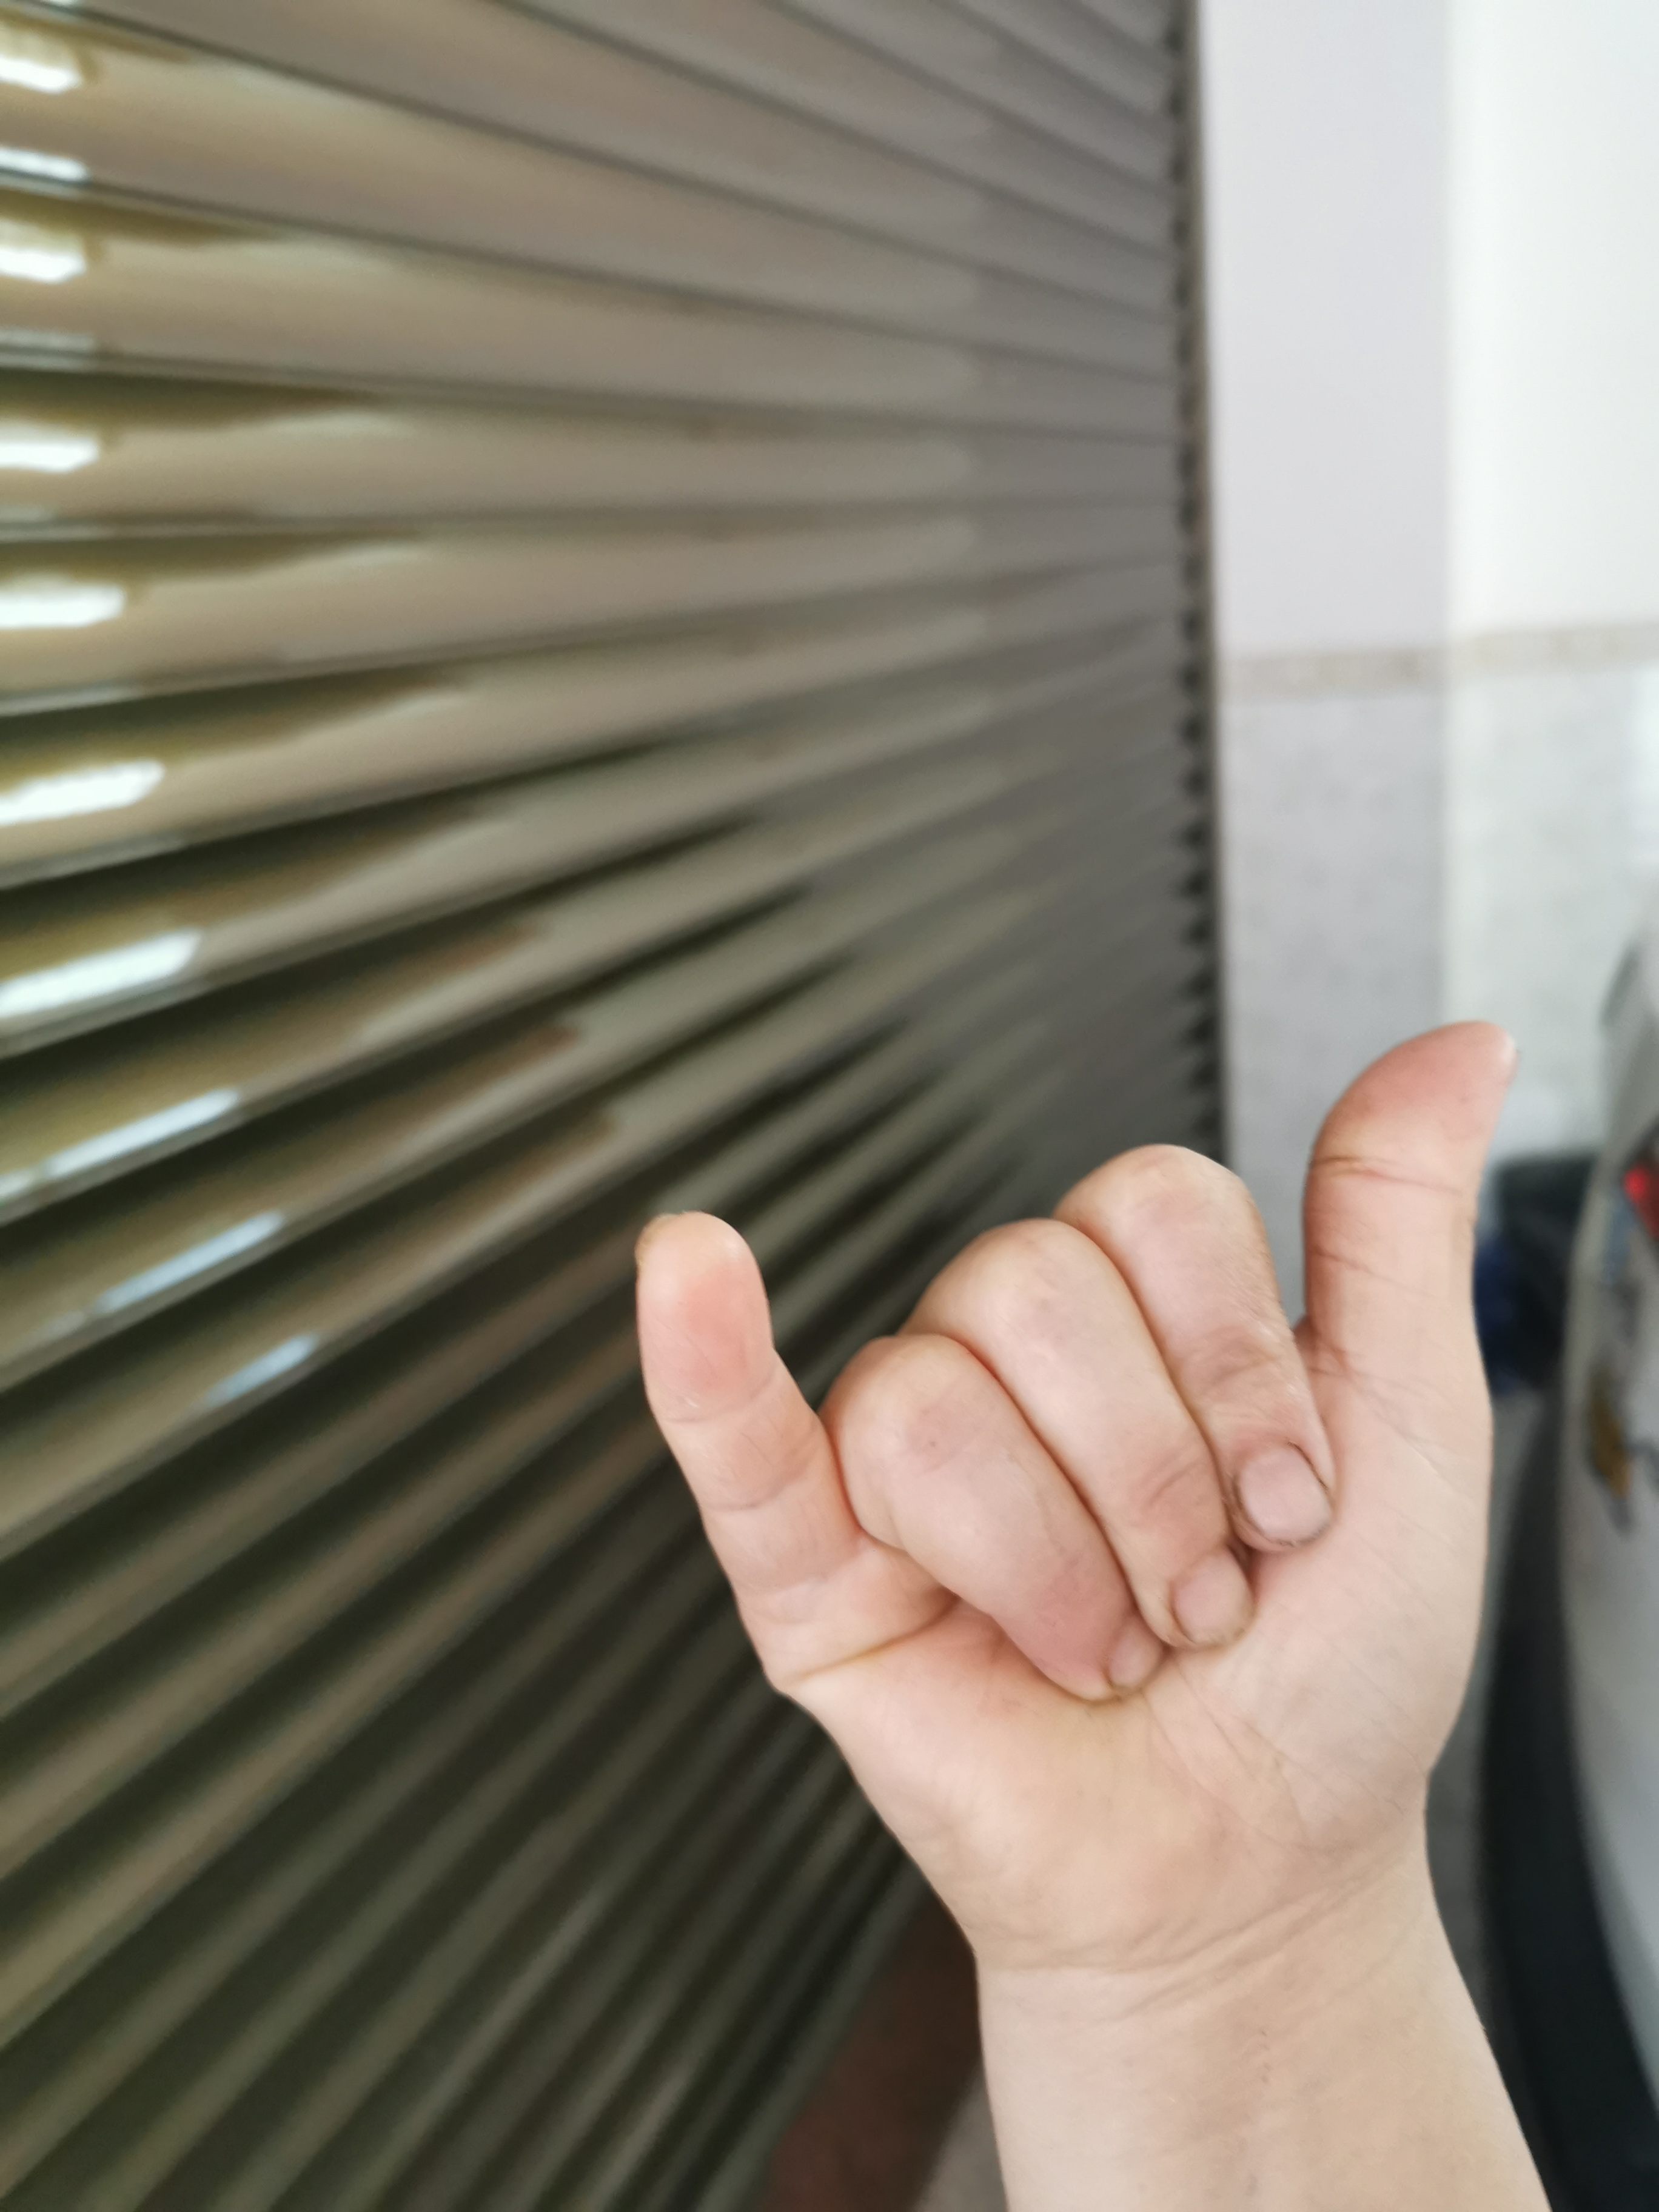clockwise: (586, 996, 1553, 1902)
